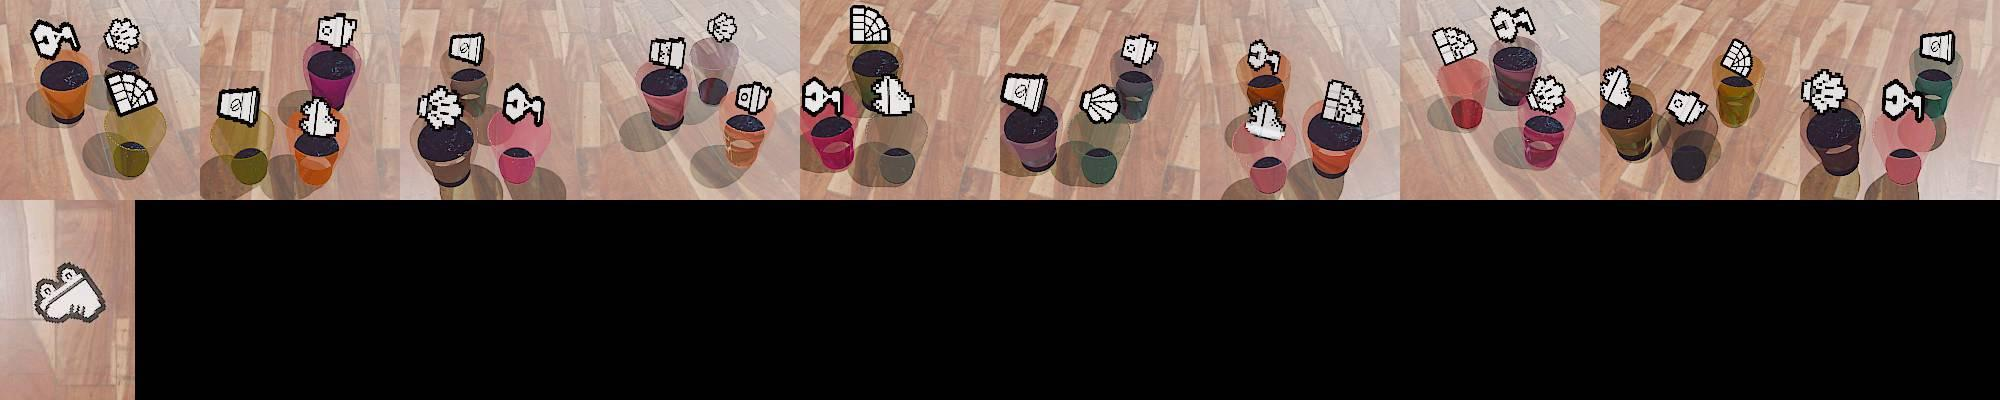icon: (33, 262, 106, 325), (105, 69, 158, 116), (416, 84, 466, 130), (1800, 69, 1847, 115), (29, 19, 82, 60), (216, 84, 261, 129), (1001, 73, 1048, 116), (870, 74, 916, 117), (801, 75, 846, 117), (1432, 24, 1477, 66), (503, 83, 545, 126), (297, 96, 341, 138), (1881, 79, 1925, 121), (1244, 99, 1288, 140), (849, 4, 892, 46), (1078, 83, 1121, 124), (1490, 5, 1536, 43), (1526, 74, 1568, 115), (1320, 79, 1360, 122), (315, 13, 357, 51), (1666, 89, 1709, 125), (1719, 38, 1754, 80), (103, 18, 142, 55), (1245, 39, 1282, 76), (735, 79, 773, 115), (1119, 33, 1158, 68), (648, 36, 687, 69), (1601, 65, 1631, 107), (448, 32, 483, 68), (1918, 31, 1955, 64), (707, 11, 739, 43)
